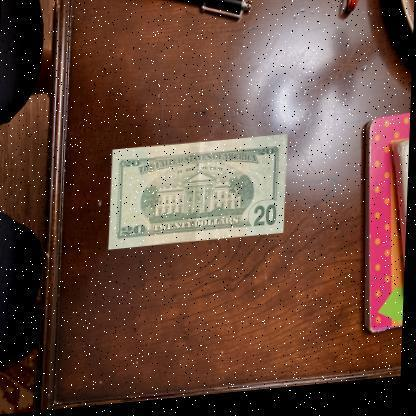dollar_back: (109, 139, 288, 254)
